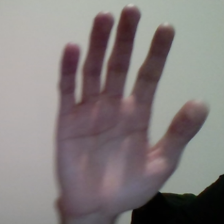left: (54, 2, 213, 224)
